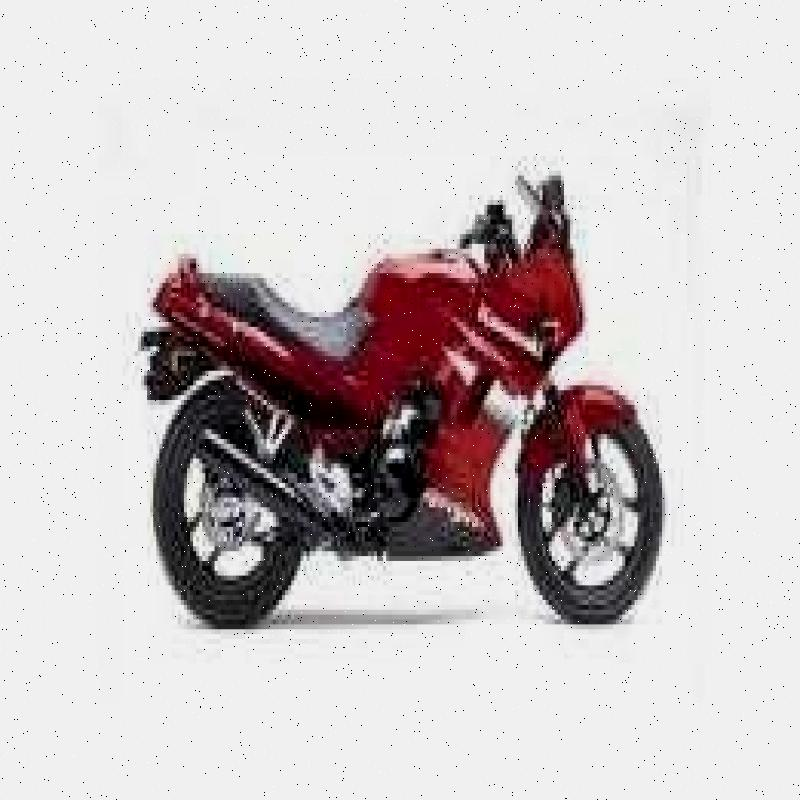bike: (80, 72, 668, 640)
